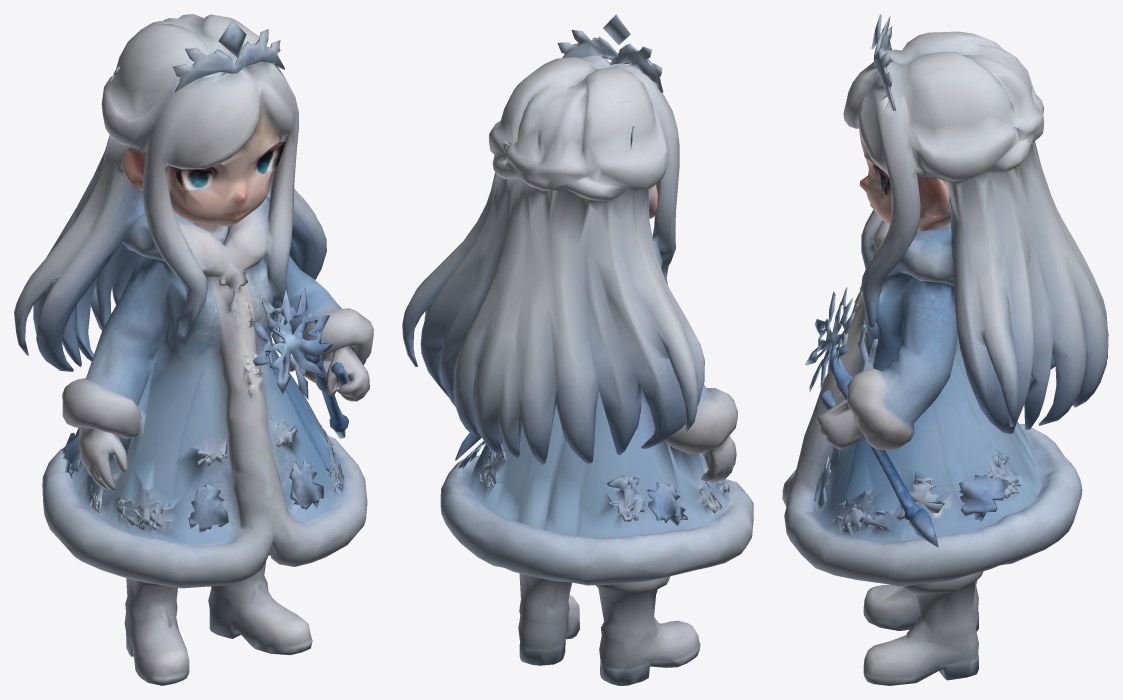
The model's file is trineu_glaciar.glb.
The picture shows the model from 3 angles, left to right: view 1: azimuth 30°, elevation 25°; view 2: azimuth 150°, elevation 25°; view 3: azimuth 270°, elevation 25°; orthographic projection. The views are drawn at different scales.
Parts seen in each view (by area): view 1: geometry_0; view 2: geometry_0; view 3: geometry_0.
Boxes of the visible parts, x1,y1,x2,y2 form: geometry_0: [14, 14, 373, 685]; geometry_0: [402, 14, 753, 685]; geometry_0: [782, 14, 1108, 685].
Bounding box in the file's own units: 0.591 × 1.2 × 0.5568.
1 material, 1 textured.
